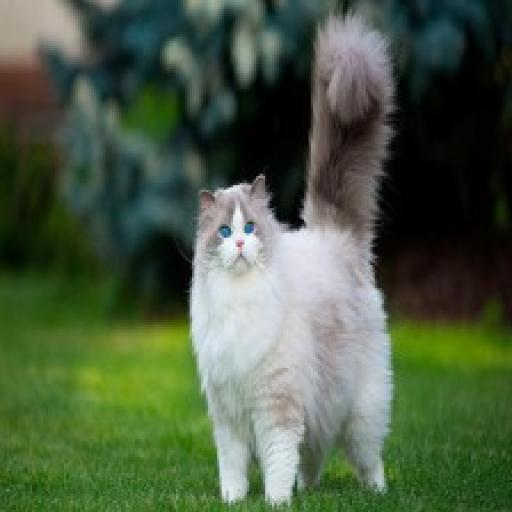cat: (164, 8, 418, 506)
